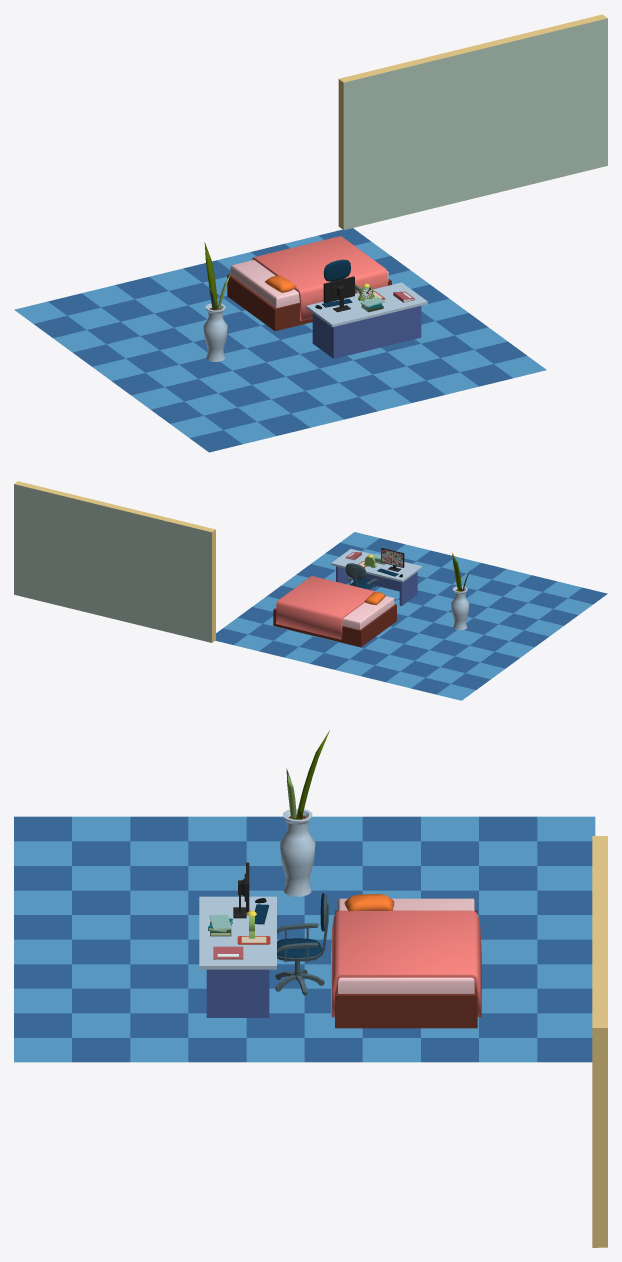
The model's file is room_1.fbx.
The picture shows the model from 3 angles, top to bottom: view 1: azimuth 30°, elevation 25°; view 2: azimuth 150°, elevation 25°; view 3: azimuth 270°, elevation 25°; orthographic projection. The views are drawn at different scales.
Visible parts, largest first — view 1: 3_NenNha, 1_Tuong.001, Giuong Ngu, 2_Ban, 5_ChauCay; view 2: 3_NenNha, 1_Tuong.001, Giuong Ngu, 2_Ban, 5_ChauCay, 1_Ghe; view 3: 3_NenNha, Giuong Ngu, 2_Ban, 1_Tuong.001, 5_ChauCay, 1_Ghe.
Part boxes in pixels (left/top/right/bottom): 3_NenNha: left=14, top=228, right=546, bottom=452; 1_Tuong.001: left=338, top=14, right=607, bottom=229; Giuong Ngu: left=227, top=236, right=391, bottom=331; 2_Ban: left=306, top=276, right=427, bottom=358; 5_ChauCay: left=203, top=242, right=230, bottom=361; 3_NenNha: left=215, top=532, right=607, bottom=700; 1_Tuong.001: left=14, top=481, right=215, bottom=642; Giuong Ngu: left=273, top=576, right=396, bottom=647; 2_Ban: left=331, top=548, right=422, bottom=605; 5_ChauCay: left=451, top=553, right=470, bottom=630; 1_Ghe: left=345, top=563, right=378, bottom=589; 3_NenNha: left=14, top=816, right=595, bottom=1062; Giuong Ngu: left=331, top=894, right=481, bottom=1028; 2_Ban: left=199, top=862, right=276, bottom=1017; 1_Tuong.001: left=592, top=836, right=607, bottom=1247; 5_ChauCay: left=280, top=730, right=329, bottom=896; 1_Ghe: left=275, top=893, right=328, bottom=995.
Size of the model in its own units: 1261 by 300 by 735.
